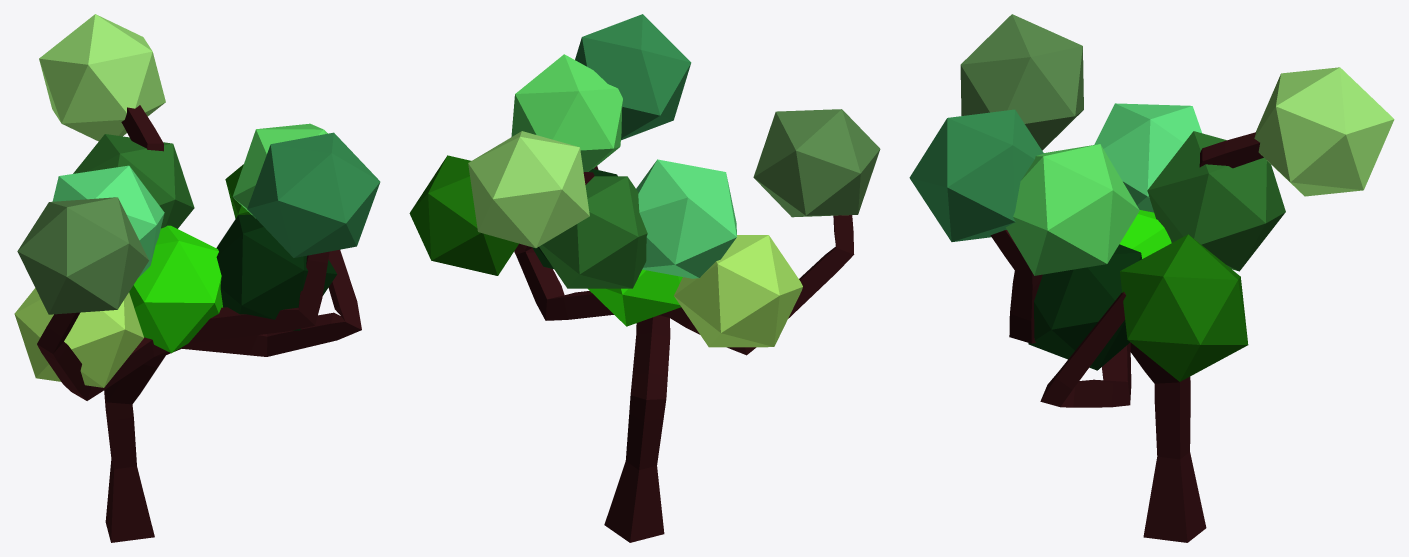
File: tree3.fbx
3 views of the same model, side by side, from view 1: azimuth 30°, elevation 25°; view 2: azimuth 150°, elevation 25°; view 3: azimuth 270°, elevation 25° (orthographic). The views are drawn at different scales.
Visible parts, largest first — view 1: Cube, Icosphere.003, Icosphere.002, Icosphere, Icosphere.004, Icosphere.008, Icosphere.006, Icosphere.005, Icosphere.009, Icosphere.007, Icosphere.001; view 2: Cube, Icosphere, Icosphere.002, Icosphere.006, Icosphere.009, Icosphere.003, Icosphere.005, Icosphere.007, Icosphere.001, Icosphere.004; view 3: Cube, Icosphere.001, Icosphere, Icosphere.007, Icosphere.003, Icosphere.005, Icosphere.002, Icosphere.008, Icosphere.009, Icosphere.004.
Boxes of the visible parts, x1,y1,x2,y2 form: Cube: (37, 105, 361, 542); Icosphere.003: (247, 132, 380, 257); Icosphere.002: (17, 197, 148, 314); Icosphere: (39, 14, 165, 141); Icosphere.004: (129, 225, 222, 353); Icosphere.008: (216, 214, 337, 330); Icosphere.006: (14, 288, 143, 387); Icosphere.005: (73, 134, 194, 228); Icosphere.009: (52, 165, 164, 277); Icosphere.007: (232, 123, 327, 218); Icosphere.001: (225, 164, 250, 218); Cube: (514, 166, 854, 542); Icosphere: (468, 131, 589, 248); Icosphere.002: (753, 109, 880, 217); Icosphere.006: (674, 235, 802, 347); Icosphere.009: (636, 159, 736, 278); Icosphere.003: (575, 14, 691, 140); Icosphere.005: (539, 176, 647, 288); Icosphere.007: (511, 54, 622, 171); Icosphere.001: (409, 155, 518, 275); Icosphere.004: (588, 269, 682, 326); Cube: (990, 132, 1263, 542); Icosphere.001: (1120, 234, 1248, 381); Icosphere: (1254, 67, 1394, 196); Icosphere.007: (1005, 144, 1139, 275); Icosphere.003: (909, 109, 1043, 241); Icosphere.005: (1147, 131, 1285, 271); Icosphere.002: (960, 14, 1083, 150); Icosphere.008: (1028, 244, 1141, 370); Icosphere.009: (1094, 103, 1201, 212); Icosphere.004: (1119, 210, 1171, 258).
Bounding box in the file's own units: 663 × 730 × 655.
